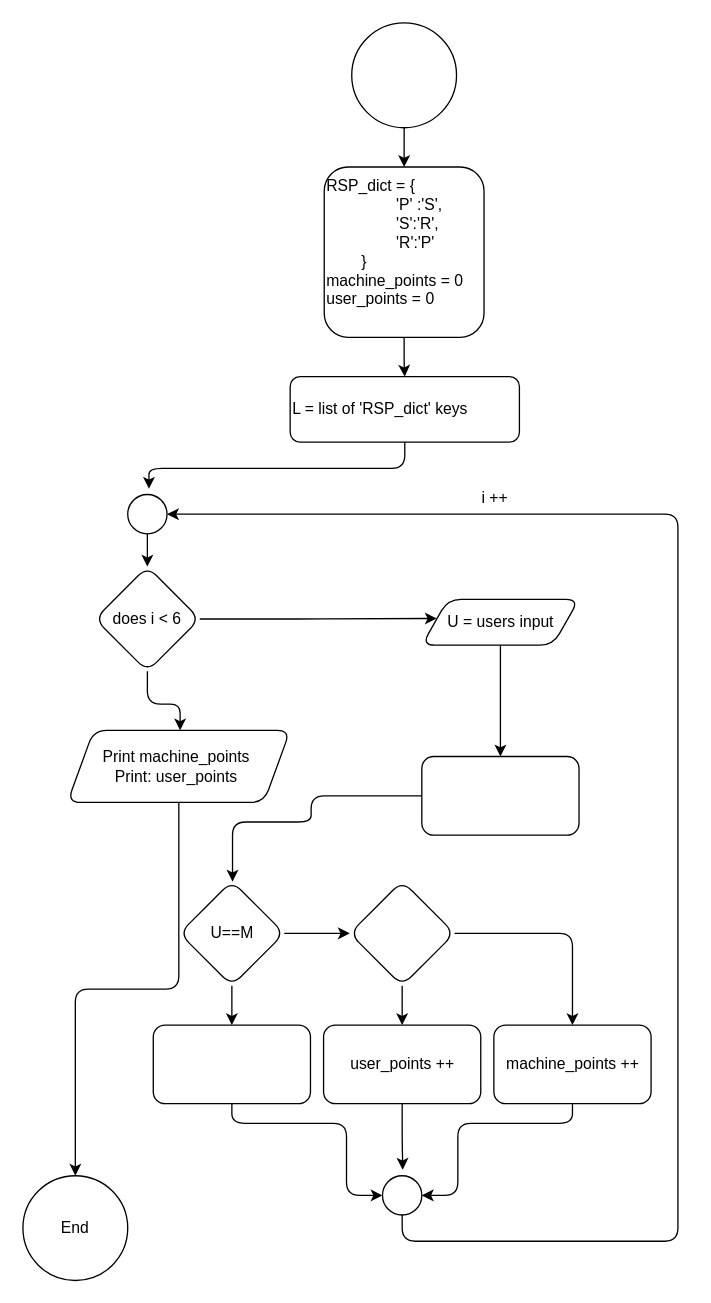
This 711x1303 diagram has some shape labels left out. The shapes that lost their labels are listed below. From the top down, each one's centre as x and y in pixels, then its label:
point 403,75: Start
point 500,795: M = random choice from the L list
point 401,933: U==RSP[M]
point 231,1064: machine_points ++ user_points ++
